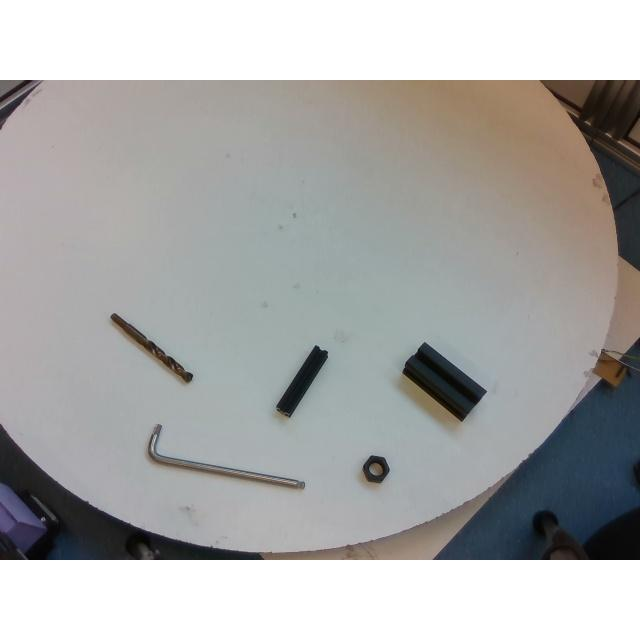AllenKey: (147, 424, 305, 488)
Drill: (110, 314, 194, 382)
F20_20_B: (276, 344, 328, 416)
M20: (363, 454, 389, 482)
S40_40_B: (403, 342, 485, 420)
